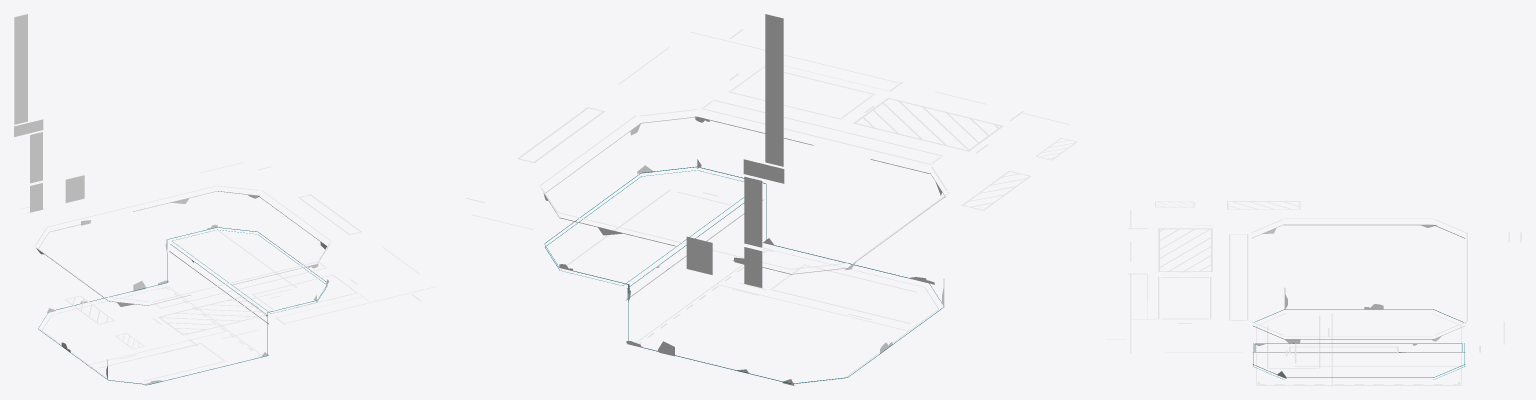
The picture shows the model from 3 angles, left to right: view 1: azimuth 30°, elevation 25°; view 2: azimuth 150°, elevation 25°; view 3: azimuth 270°, elevation 25°; orthographic projection. The views are drawn at different scales.
Parts seen in each view (by area): view 1: SM_H_Building_FutureTech_HLight_01_InterWall_04C; view 2: SM_H_Building_FutureTech_HLight_01_InterWall_04C; view 3: SM_H_Building_FutureTech_HLight_01_InterWall_04C.
Part boxes in pixels (bbox=[...]): SM_H_Building_FutureTech_HLight_01_InterWall_04C: bbox=[14, 14, 436, 385]; SM_H_Building_FutureTech_HLight_01_InterWall_04C: bbox=[465, 14, 1076, 385]; SM_H_Building_FutureTech_HLight_01_InterWall_04C: bbox=[1106, 201, 1521, 385].
Bounding box in the file's own units: 1778 × 1540 × 1434.
